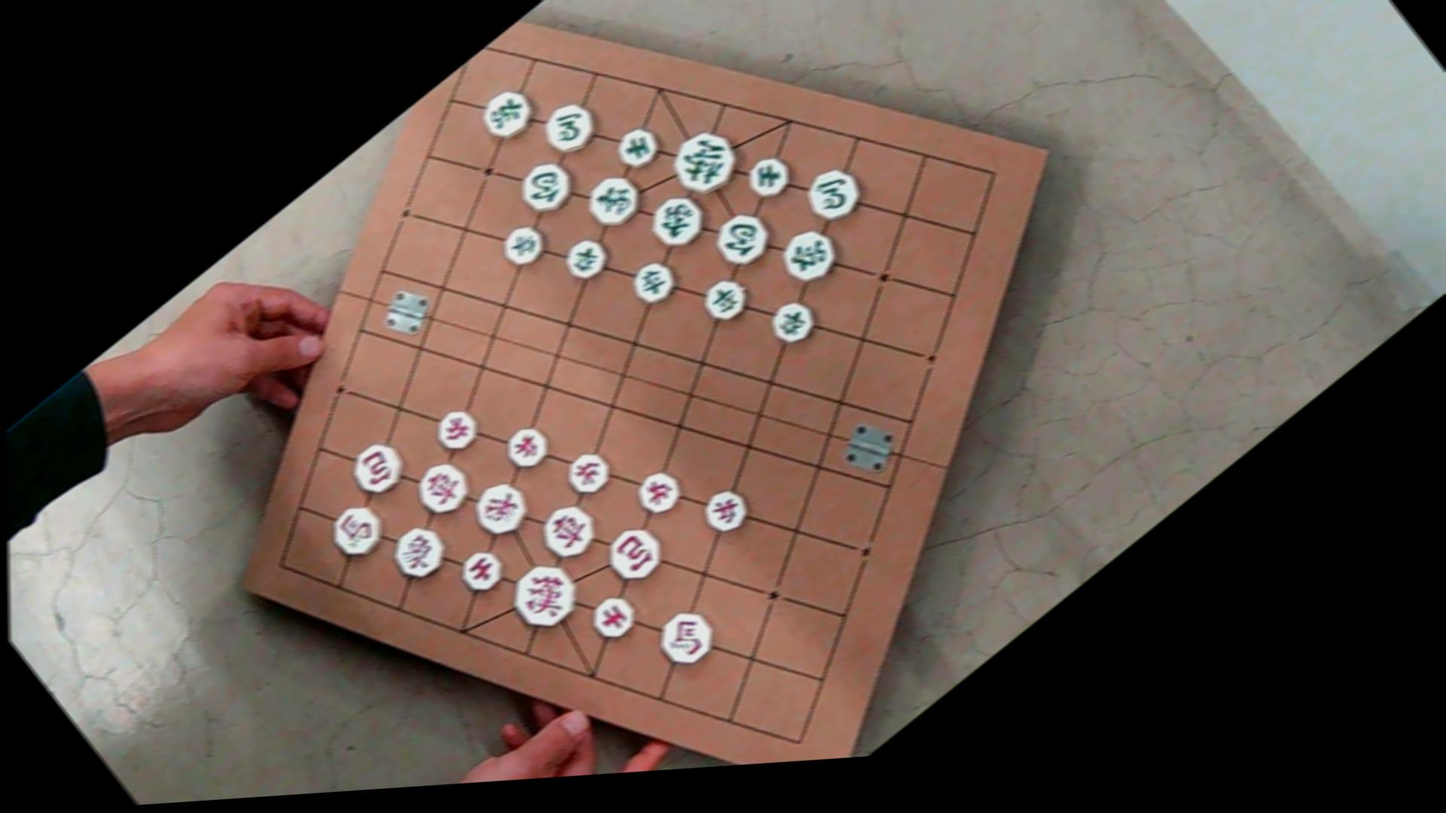cha_green: (773, 218, 844, 291), (473, 81, 538, 148)
cha_red: (532, 494, 603, 568), (407, 452, 476, 523)
jol_green: (763, 292, 821, 352), (624, 254, 680, 310), (697, 271, 752, 328), (495, 218, 549, 273), (558, 232, 612, 286)
jol_red: (695, 481, 754, 540), (629, 462, 687, 521), (559, 443, 616, 502), (428, 401, 484, 458), (499, 419, 554, 475)
ma_green: (798, 157, 868, 230), (534, 93, 601, 162)
ma_red: (650, 601, 721, 674), (322, 496, 389, 566)
po_green: (707, 203, 776, 275), (513, 153, 578, 221)
po_red: (599, 518, 668, 590), (343, 433, 411, 502)
sa_green: (741, 149, 796, 205), (611, 120, 664, 175)
sa_red: (584, 589, 640, 647), (453, 544, 507, 599)
sang_green: (579, 166, 647, 236), (643, 186, 711, 256)
sang_red: (465, 473, 535, 544), (384, 517, 451, 587)
wang_green: (661, 119, 746, 206)
wang_red: (502, 553, 586, 640)
